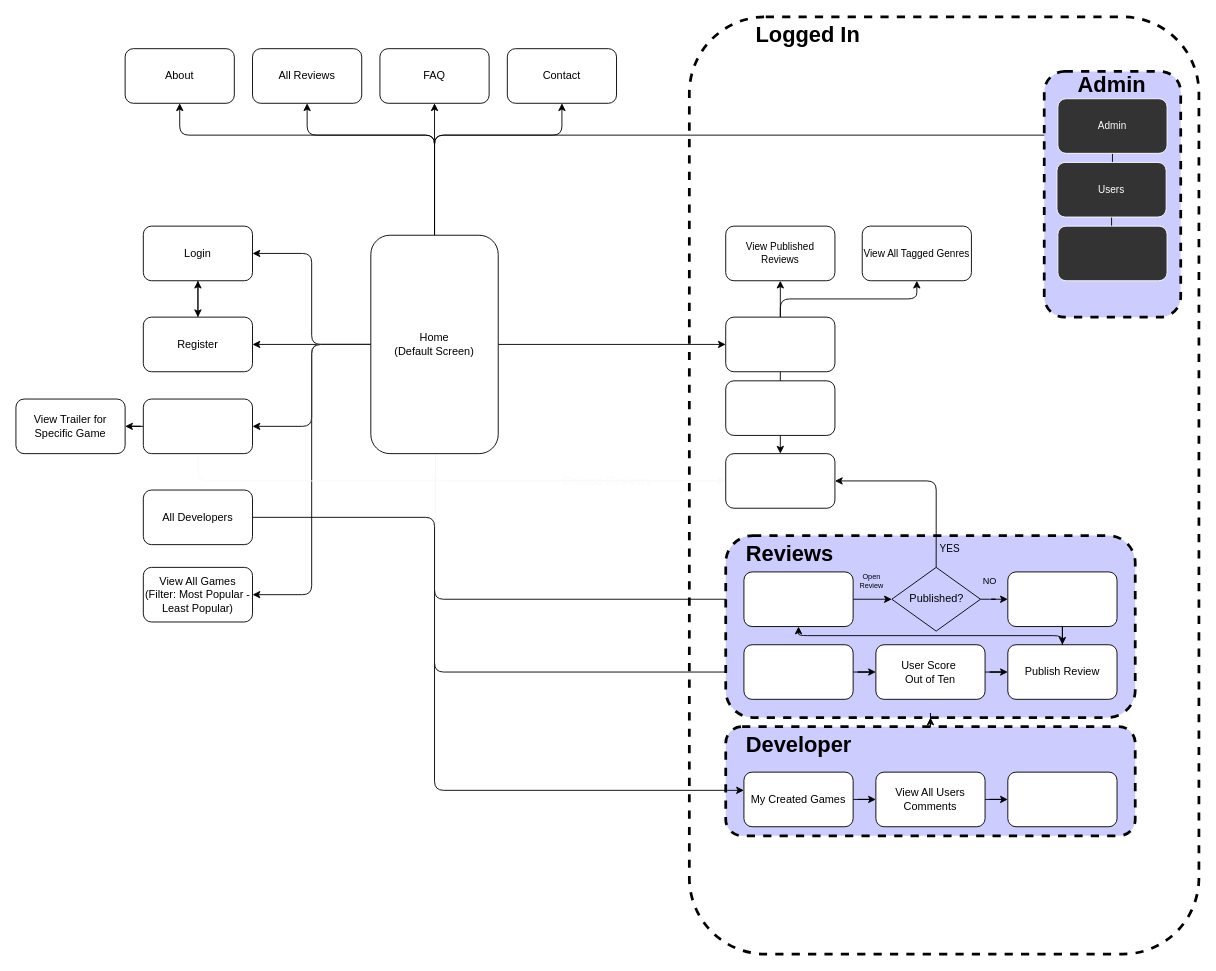
This 1216x971 diagram has some shape labels left out. Here are the shapes that lost their labels. From the top down, the centre of each, then its label:
At [1112,253]: "Edit Users".
At [780,344]: "My Account".
At [197,426]: "Search For Games".
At [780,407]: "Tag User in Genre".
At [780,480]: "Add Descriptions To Game".
At [798,599]: "My Created Review".
At [1062,599]: "Edit Reviews".
At [798,671]: "Create Review".
At [1062,799]: "Delete Users Comments/Block".
